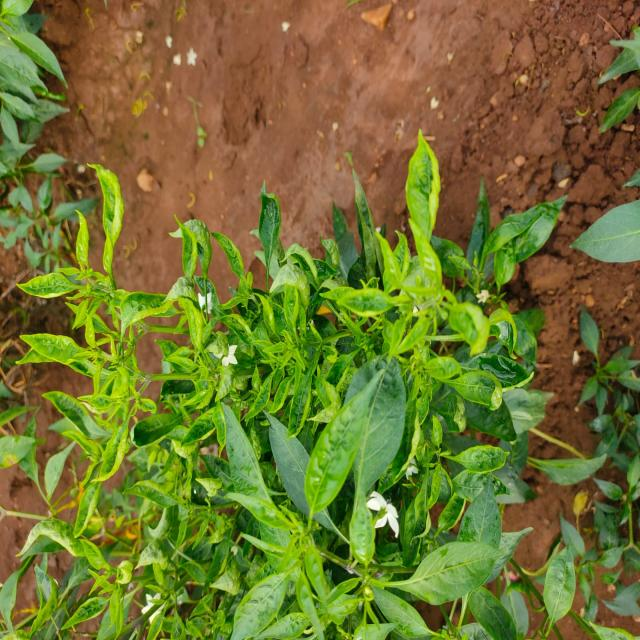Moko: (309, 67, 504, 454), (115, 188, 250, 610), (165, 451, 433, 640), (10, 142, 150, 483), (236, 147, 345, 476), (0, 465, 134, 630)
